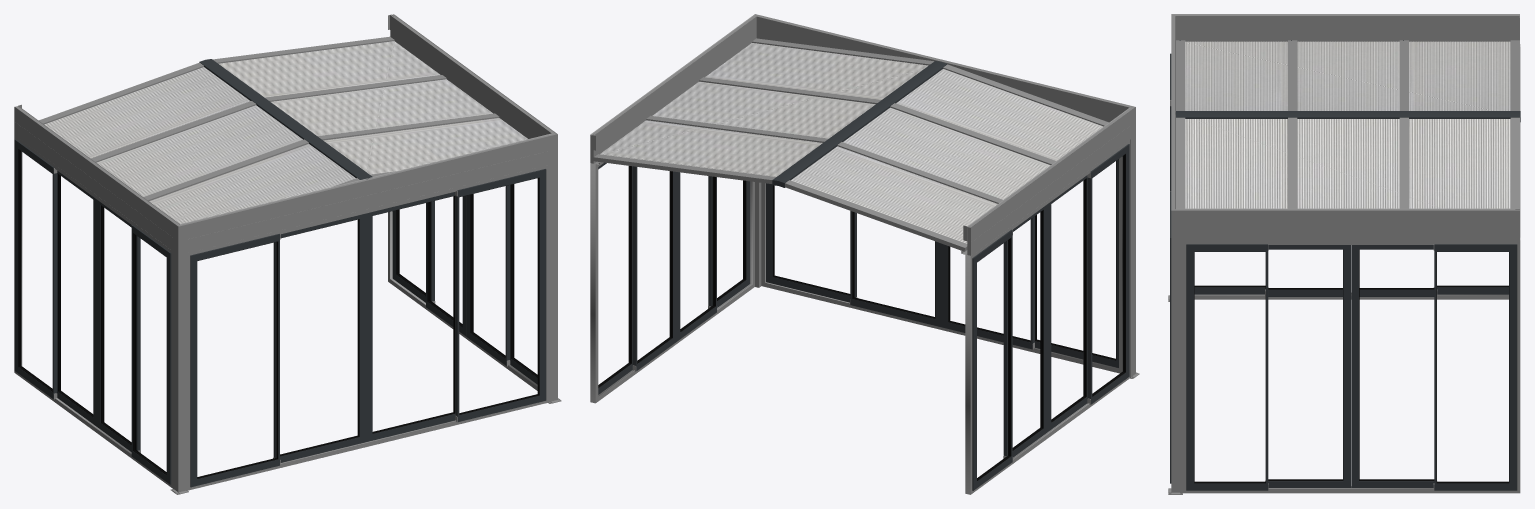
The picture shows the model from 3 angles, left to right: view 1: azimuth 30°, elevation 25°; view 2: azimuth 150°, elevation 25°; view 3: azimuth 270°, elevation 25°; orthographic projection. The views are drawn at different scales.
Visible parts, largest first — view 1: policarbonato, caleira, pilar (×2), travessa (×3), aroFIXO, Plane001, Plane004, Plane003, Plane013, Plane002, aroFIXO001, Plane010 (+17 smaller); view 2: policarbonato, caleira, travessa (×4), aroFIXO001, aroFIXO002, Plane010, pilar (×2), Plane012, travessa-central, aroFIXO, Plane011, Plane013 (+15 smaller); view 3: policarbonato, caleira, travessa (×4), aroFIXO002, Plane017, Plane014, pilar, Plane016, Plane015, travessa-central, aroFIXO001, Rectangle035 (+6 smaller).
Part boxes in pixels (box(x1,y1,x2,y2)): policarbonato: box(44, 41, 527, 223); caleira: box(14, 14, 557, 252); pilar (×2): box(173, 134, 557, 492); travessa (×3): box(39, 36, 499, 200); aroFIXO: box(188, 165, 548, 490); Plane001: box(455, 169, 546, 421); Plane004: box(190, 233, 279, 487); Plane003: box(273, 213, 365, 462); Plane013: box(14, 139, 56, 398); Plane002: box(366, 192, 455, 441); aroFIXO001: box(14, 135, 172, 488); Plane010: box(131, 225, 171, 484); policarbonato: box(600, 43, 1103, 243); caleira: box(590, 14, 1135, 255); travessa (×4): box(593, 38, 1108, 251); aroFIXO001: box(965, 140, 1129, 494); aroFIXO002: box(590, 161, 754, 403); Plane010: box(1087, 144, 1129, 404); pilar (×2): box(755, 107, 1135, 378); Plane012: box(1003, 204, 1047, 457); travessa-central: box(772, 61, 947, 187); aroFIXO: box(761, 157, 1120, 373); Plane011: box(1047, 175, 1087, 431); Plane013: box(972, 229, 1012, 490); policarbonato: box(1185, 41, 1510, 208); caleira: box(1171, 14, 1519, 240); travessa (×4): box(1176, 40, 1519, 208); aroFIXO002: box(1183, 238, 1520, 493); Plane017: box(1434, 244, 1517, 490); Plane014: box(1186, 244, 1268, 490); pilar: box(1171, 210, 1182, 493); Plane016: box(1351, 245, 1434, 487); Plane015: box(1268, 245, 1350, 487); travessa-central: box(1175, 111, 1520, 122); aroFIXO001: box(1194, 44, 1520, 299); Rectangle035: box(1436, 252, 1509, 483).
Bounding box in the file's own units: 405 × 269 × 303.
6 materials, 3 textured.
